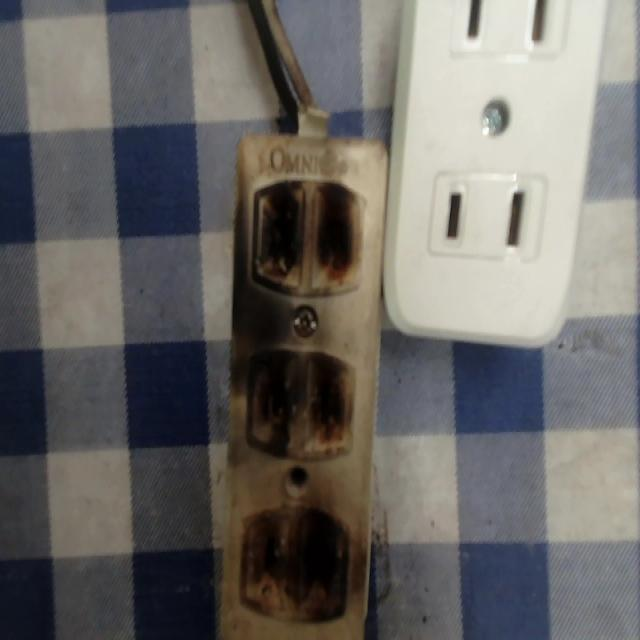-: (249, 168, 361, 297), (237, 503, 351, 624), (244, 342, 354, 462)
